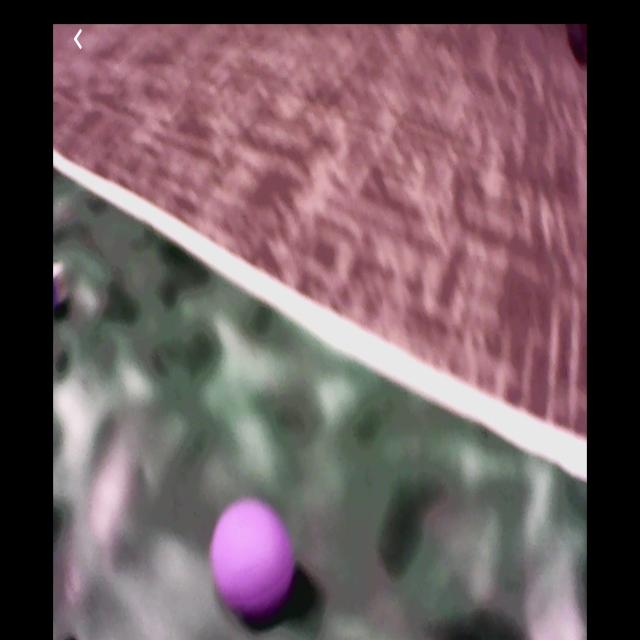ball: (212, 499, 295, 616)
